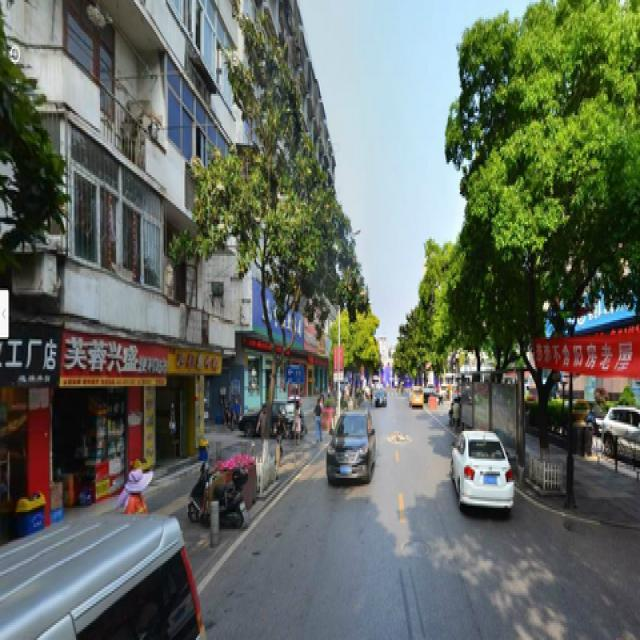cinn: (469, 22, 636, 440)
